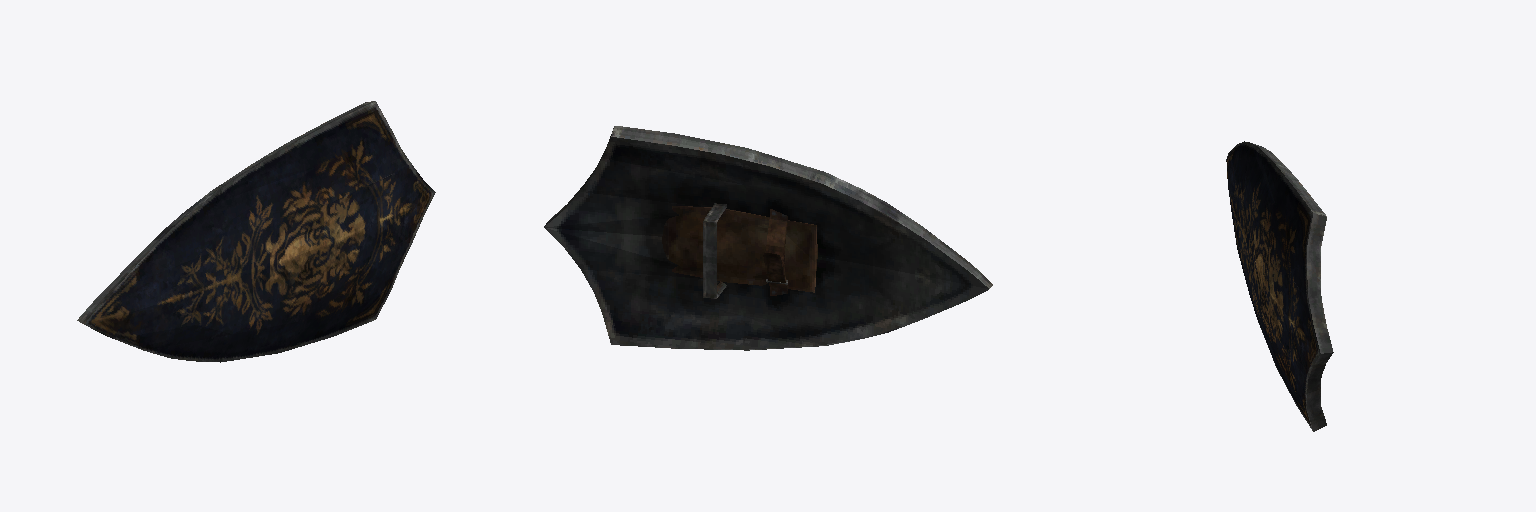
3 renders of one model, left to right at view 1: azimuth 30°, elevation 25°; view 2: azimuth 150°, elevation 25°; view 3: azimuth 270°, elevation 25°, orthographic.
Visible parts, largest first — view 1: mesh0; view 2: mesh0, mesh1; view 3: mesh0.
Boxes of the visible parts, x1=… form: mesh0: x1=77, y1=101, x2=435, y2=362; mesh0: x1=544, y1=126, x2=992, y2=350; mesh1: x1=662, y1=206, x2=817, y2=295; mesh0: x1=1226, y1=141, x2=1333, y2=431.
Size of the model in its own units: 0.921 by 0.4806 by 0.2135.
Materials: 2 (1 with a texture image).